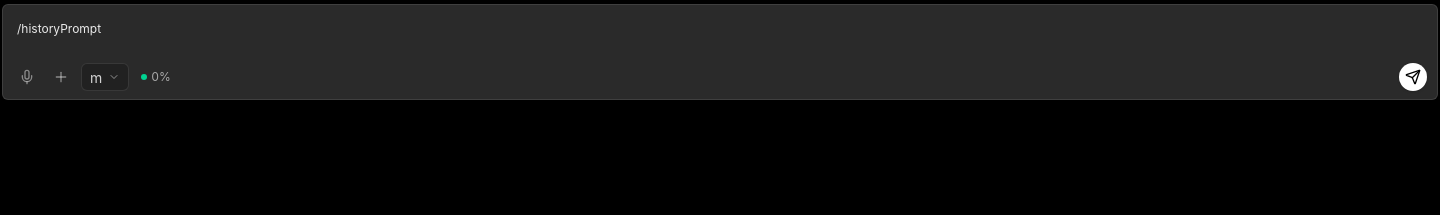
AgentInput /historyPrompt 历史提示词面板 › 多行历史：首行作标题、其余作单行预览
Focus the field with class "cm-content" at coordinates (59, 28), box x1=17 y1=21 x2=101 y2=36
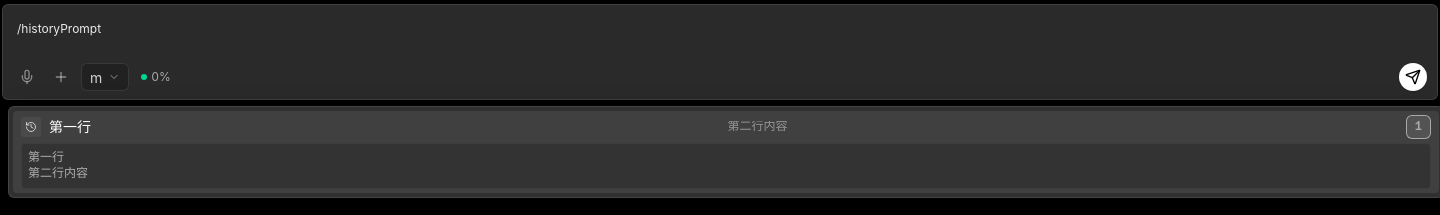
Expected: the option shows "第一行", x1=13 y1=111 x2=1439 y2=193
Expected: the option shows "第二行内容", x1=13 y1=111 x2=1439 y2=193
